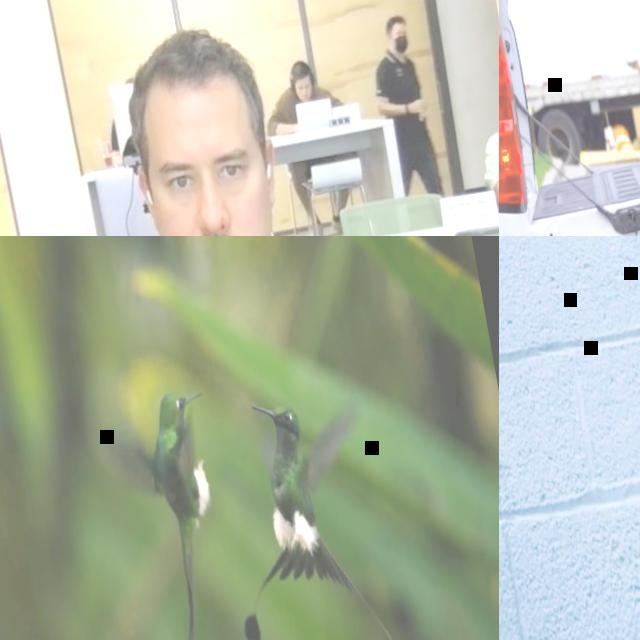Mask: (393, 36, 410, 51)
NO-Hardhat: (126, 17, 260, 128), (288, 58, 313, 79), (384, 12, 405, 31)
NO-Mask: (296, 86, 311, 100)
NO-Safety Vest: (381, 56, 436, 160), (280, 85, 324, 125)
Person: (0, 0, 447, 236), (256, 52, 366, 236), (363, 5, 445, 195), (465, 50, 499, 223), (96, 75, 145, 149)
vehicle: (499, 0, 640, 236)
